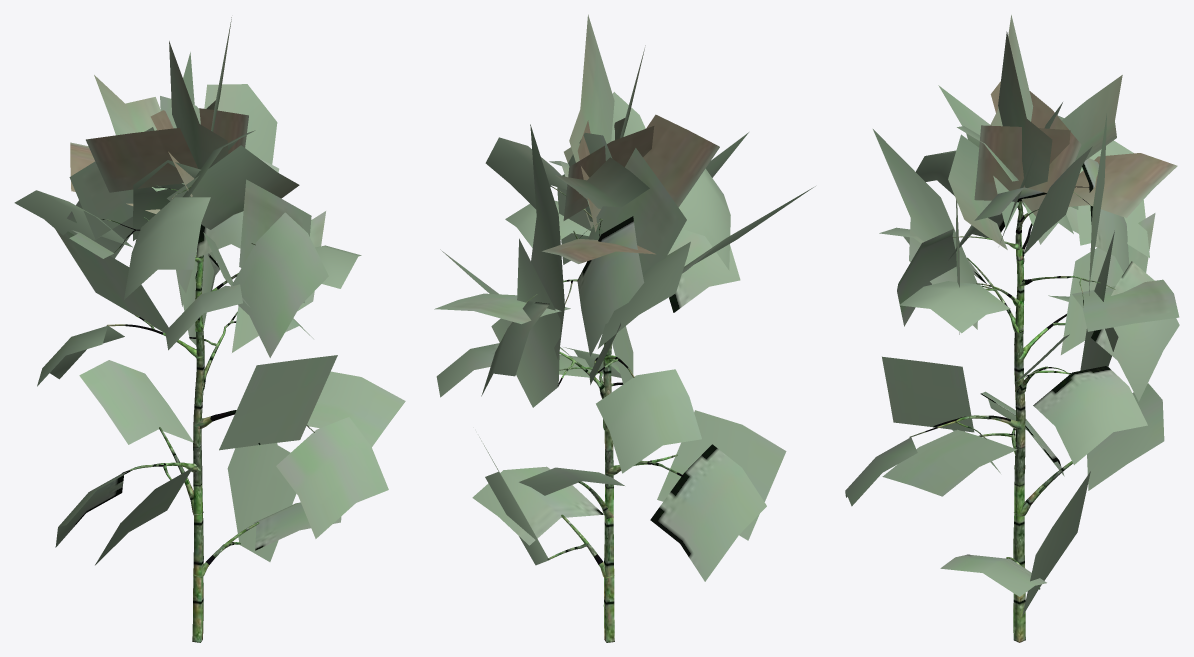
The model's file is tree.glb.
3 renders of one model, left to right at view 1: azimuth 30°, elevation 25°; view 2: azimuth 150°, elevation 25°; view 3: azimuth 270°, elevation 25°, orthographic.
Parts seen in each view (by area): view 1: Oak_Leav; view 2: Oak_Leav; view 3: Oak_Leav.
Boxes of the visible parts, <box> form: Oak_Leav: <box>14,17,405,642</box>; Oak_Leav: <box>434,14,815,642</box>; Oak_Leav: <box>845,15,1179,642</box>.
Bounding box in the file's own units: 1.51 × 2.65 × 1.29.
1 material, 1 textured.
